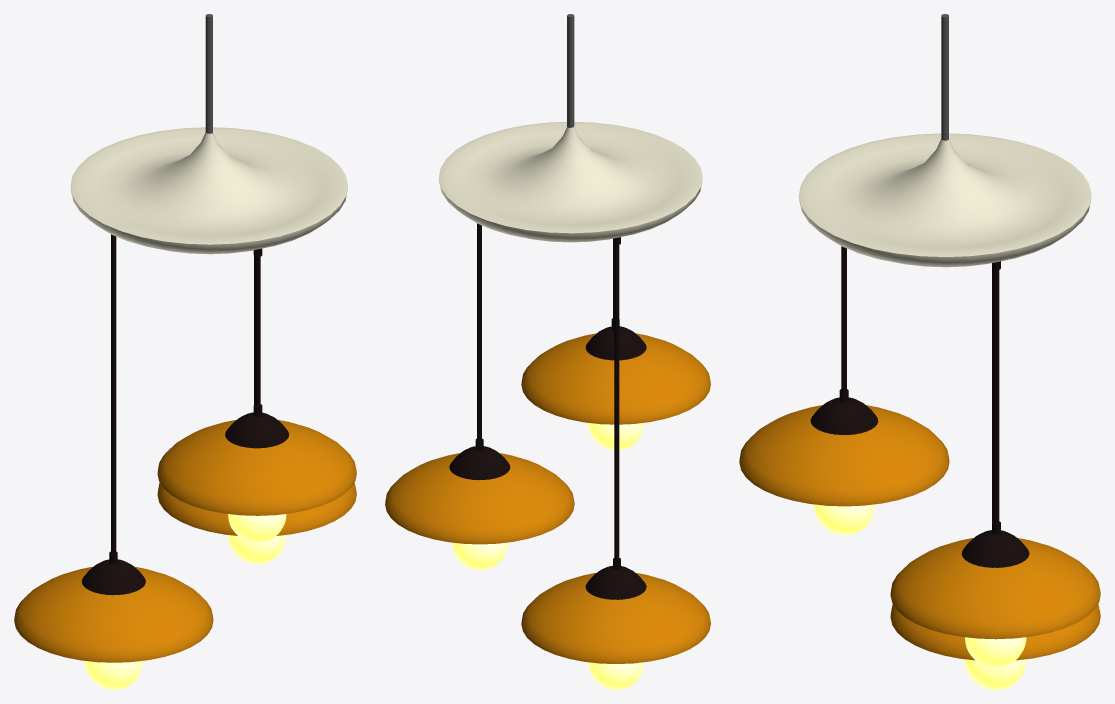
The model's file is BigLamp.fbx.
3 views of the same model, side by side, from view 1: azimuth 30°, elevation 25°; view 2: azimuth 150°, elevation 25°; view 3: azimuth 270°, elevation 25° (orthographic). The views are drawn at different scales.
Visible parts, largest first — view 1: Plate, Top, Top4, Top3, WireMain4, Cap, Cap4, Bulb, Bulb4, Bulb3, WireMain, Wire; view 2: Plate, Top3, Top4, Top, WireMain4, Cap4, Cap3, Cap, WireMain3, Bulb3, Bulb4, Bulb (+1 smaller); view 3: Plate, Top3, Top, Top4, Cap3, Cap, WireMain3, Bulb3, Bulb, Bulb4, Wire, WireMain.
Boxes of the visible parts, left/top/right/bottom form: Plate: left=70, top=127, right=347, bottom=254; Top: left=157, top=420, right=356, bottom=515; Top4: left=14, top=566, right=213, bottom=662; Top3: left=157, top=482, right=356, bottom=535; WireMain4: left=109, top=234, right=117, bottom=564; Cap: left=225, top=412, right=288, bottom=448; Cap4: left=82, top=559, right=145, bottom=595; Bulb: left=228, top=514, right=286, bottom=542; Bulb4: left=84, top=661, right=142, bottom=689; Bulb3: left=228, top=535, right=286, bottom=563; WireMain: left=253, top=256, right=262, bottom=416; Wire: left=205, top=14, right=212, bottom=133; Plate: left=438, top=121, right=702, bottom=242; Top3: left=385, top=453, right=574, bottom=544; Top4: left=521, top=573, right=710, bottom=663; Top: left=521, top=333, right=710, bottom=424; WireMain4: left=613, top=244, right=620, bottom=569; Cap4: left=585, top=565, right=646, bottom=599; Cap3: left=449, top=446, right=510, bottom=480; Cap: left=585, top=326, right=646, bottom=360; WireMain3: left=475, top=223, right=483, bottom=450; Bulb3: left=452, top=542, right=507, bottom=570; Bulb4: left=588, top=662, right=643, bottom=689; Bulb: left=588, top=423, right=643, bottom=450; Plate: left=798, top=133, right=1091, bottom=267; Top3: left=890, top=538, right=1100, bottom=639; Top: left=739, top=405, right=949, bottom=506; Top4: left=890, top=604, right=1100, bottom=660; Cap3: left=961, top=530, right=1029, bottom=567; Cap: left=810, top=397, right=878, bottom=434; WireMain3: left=992, top=270, right=1000, bottom=534; Bulb3: left=965, top=637, right=1026, bottom=667; Bulb: left=813, top=504, right=875, bottom=534; Bulb4: left=964, top=659, right=1026, bottom=689; Wire: left=941, top=14, right=948, bottom=140; WireMain: left=839, top=246, right=848, bottom=402.
Bounding box in the file's own units: 3.18 × 6.46 × 2.99.
